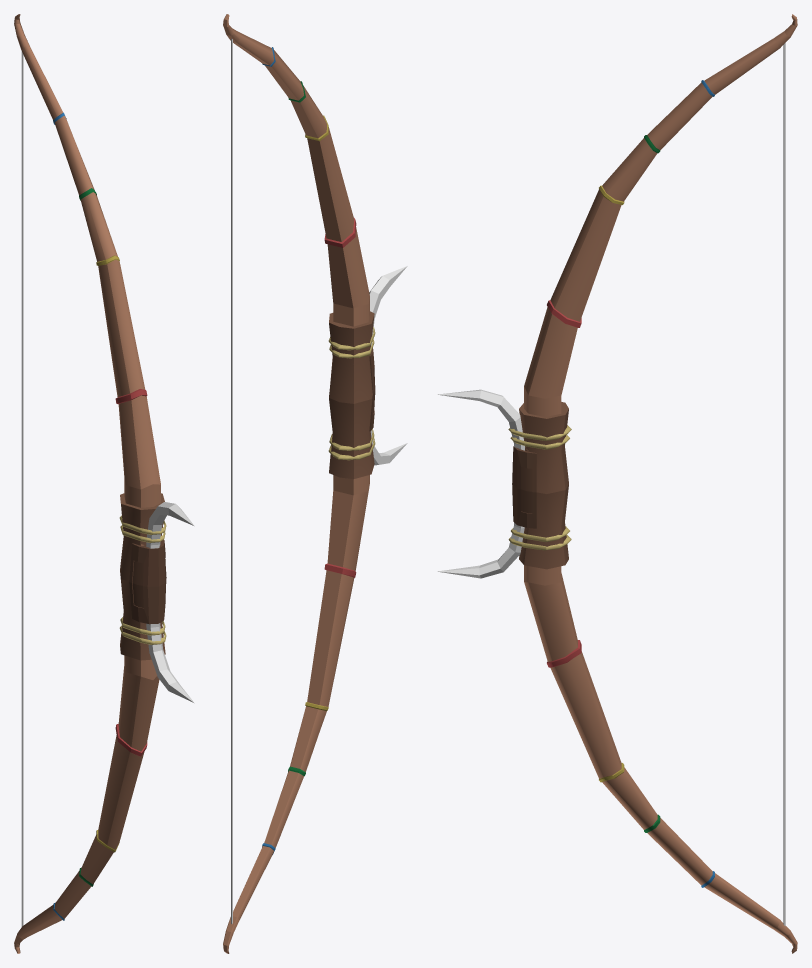
The model's file is CowBowColored.fbx.
The picture shows the model from 3 angles, left to right: view 1: azimuth 30°, elevation 25°; view 2: azimuth 150°, elevation 25°; view 3: azimuth 270°, elevation 25°; orthographic projection.
Parts seen in each view (by area): view 1: polySurface10; view 2: polySurface10; view 3: polySurface10.
Boxes of the visible parts, x1,y1,x2,y2 form: polySurface10: (14,14,194,953); polySurface10: (223,14,407,953); polySurface10: (437,14,797,953).
Bounding box in the file's own units: 73.03 × 1570 × 547.
